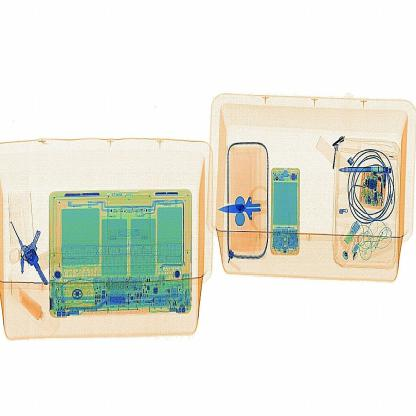gun: (219, 182, 284, 233)
